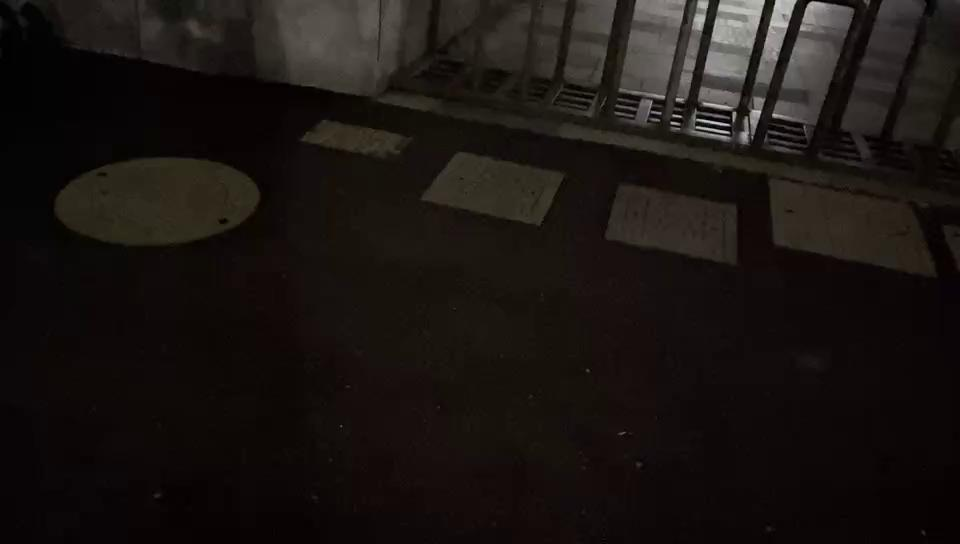wellcover: (40, 141, 276, 254), (763, 150, 941, 288), (594, 171, 746, 277), (417, 137, 568, 234), (295, 107, 415, 167)
